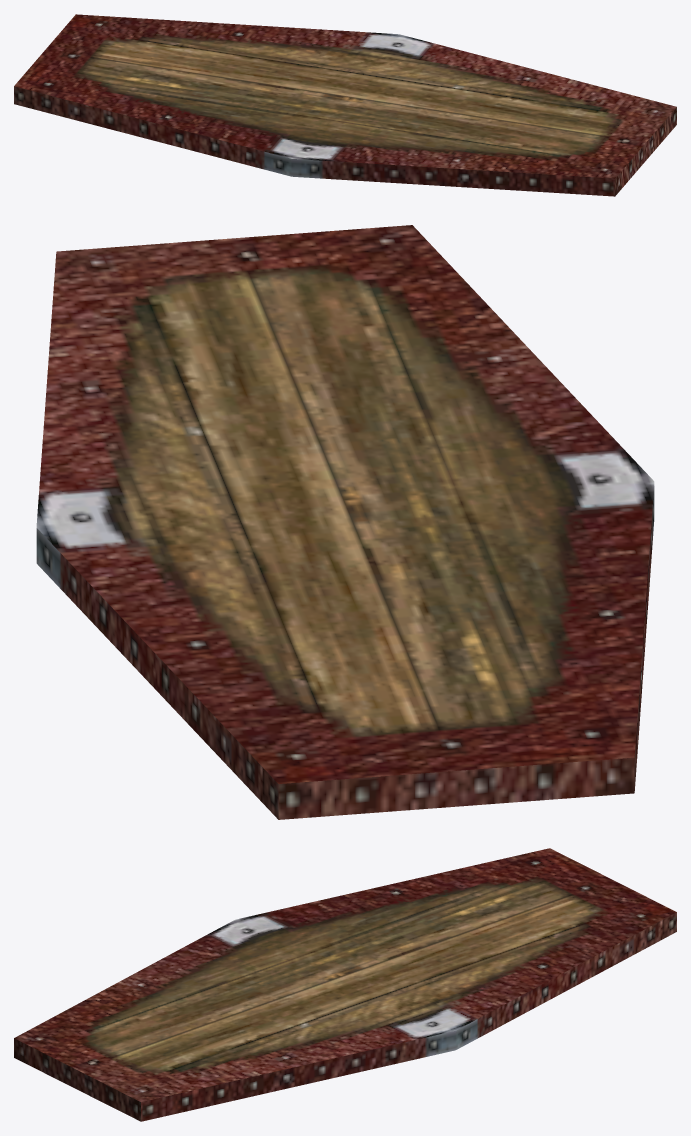
File: msf.glb
3 views of the same model, one above another, from view 1: azimuth 30°, elevation 25°; view 2: azimuth 150°, elevation 25°; view 3: azimuth 270°, elevation 25° (orthographic). The views are drawn at different scales.
Parts seen in each view (by area): view 1: msf-col; view 2: msf-col; view 3: msf-col.
Boxes of the visible parts, box(x1,y1,x2,y2) form: msf-col: box(14, 14, 676, 196); msf-col: box(36, 225, 654, 819); msf-col: box(14, 848, 676, 1121).
Bounding box in the file's own units: 0.8549 × 0.0308 × 0.9428.
1 material, 1 textured.
